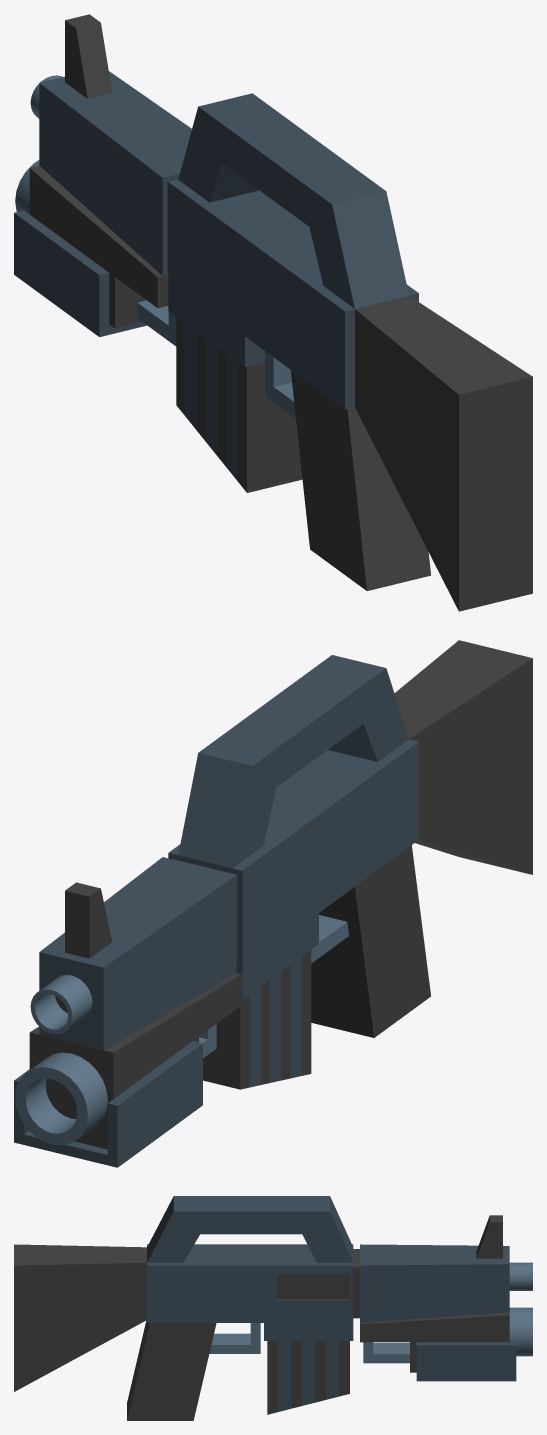
The model's file is machinegunLauncher.dae.
3 renders of one model, top to bottom at view 1: azimuth 30°, elevation 25°; view 2: azimuth 150°, elevation 25°; view 3: azimuth 270°, elevation 25°, orthographic. The views are drawn at different scales.
Visible parts, largest first — view 1: Group (×3); view 2: Group (×3); view 3: Group (×3).
Boxes of the visible parts, bbox=[...] form: Group (×3): bbox=[14, 14, 532, 611]; Group (×3): bbox=[14, 640, 532, 1167]; Group (×3): bbox=[14, 1196, 532, 1420].
Size of the model in its own units: 0.0804 by 0.2641 by 0.5972.
